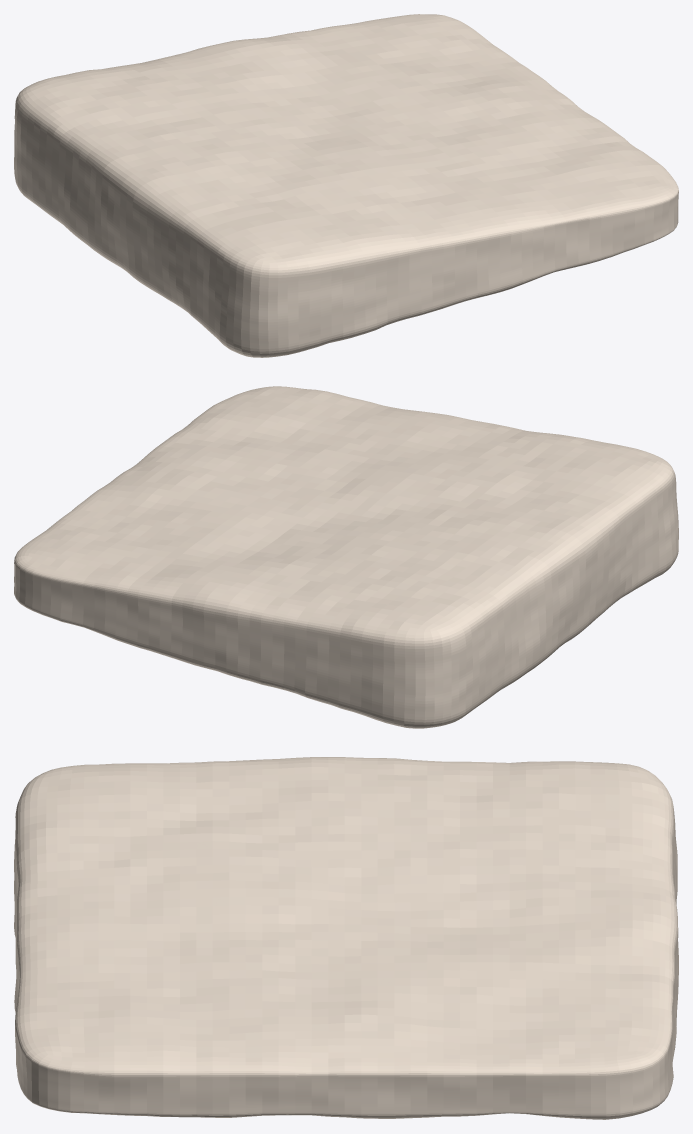
3 renders of one model, top to bottom at view 1: azimuth 30°, elevation 25°; view 2: azimuth 150°, elevation 25°; view 3: azimuth 270°, elevation 25°, orthographic. The views are drawn at different scales.
Parts seen in each view (by area): view 1: Pillow; view 2: Pillow; view 3: Pillow.
Part boxes in pixels (x1=…): Pillow: x1=14, y1=14, x2=678, y2=357; Pillow: x1=14, y1=386, x2=678, y2=728; Pillow: x1=14, y1=757, x2=678, y2=1119.
Bounding box in the file's own units: 1.21 × 0.2732 × 1.21.
